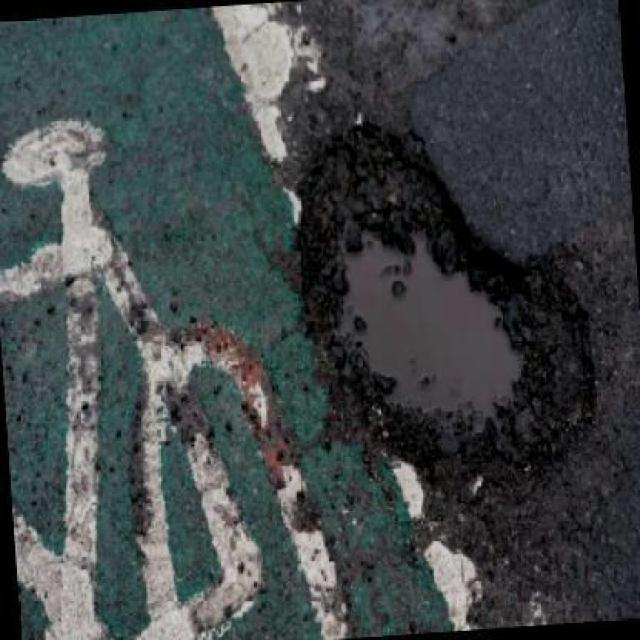pothole: (297, 120, 594, 500)
